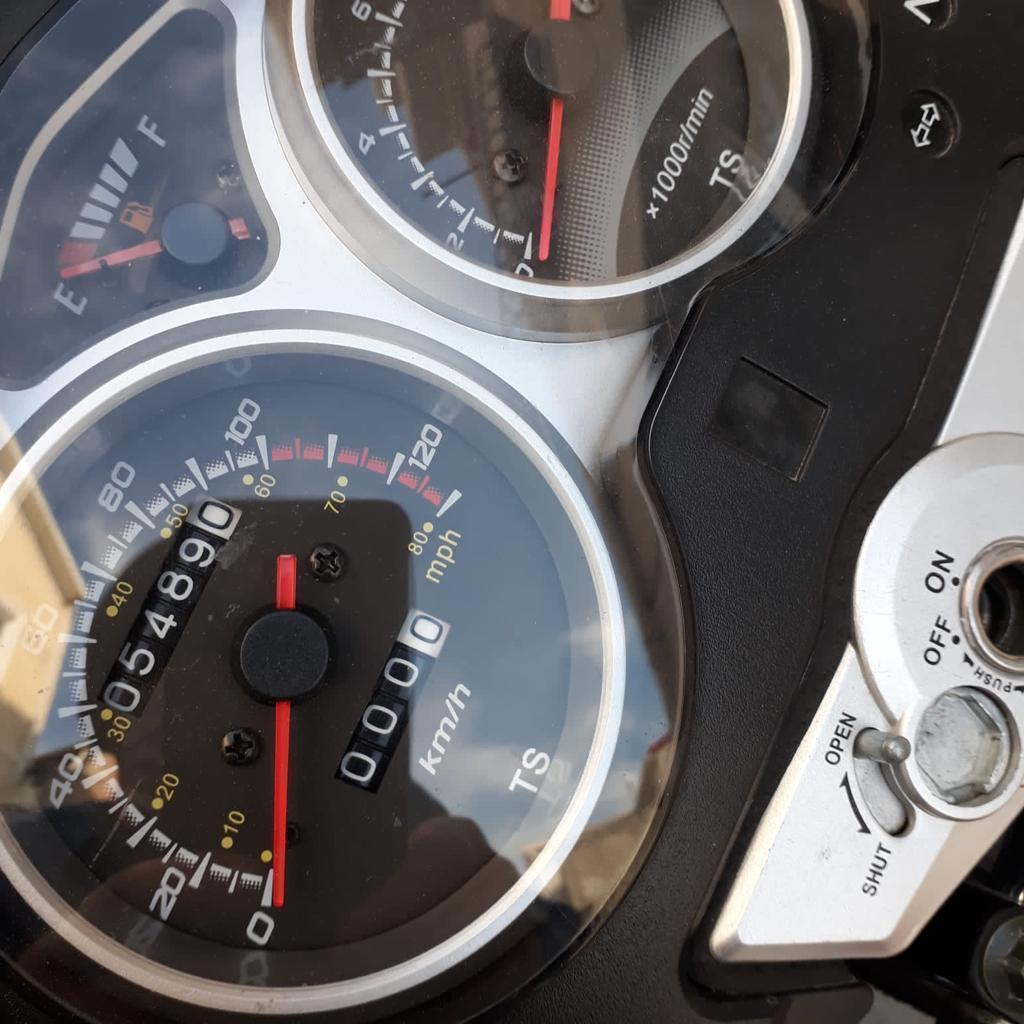0: (102, 680, 141, 712), (196, 500, 234, 530), (115, 580, 134, 594), (171, 502, 189, 516)
4: (143, 608, 177, 640), (111, 593, 126, 606)
5: (117, 640, 155, 676), (164, 514, 182, 527)
8: (156, 570, 194, 601)
9: (178, 537, 216, 568)
odometer: (95, 489, 244, 722)
